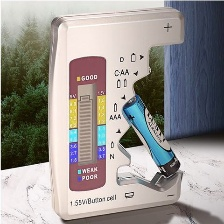battery: (115, 90, 183, 181)
